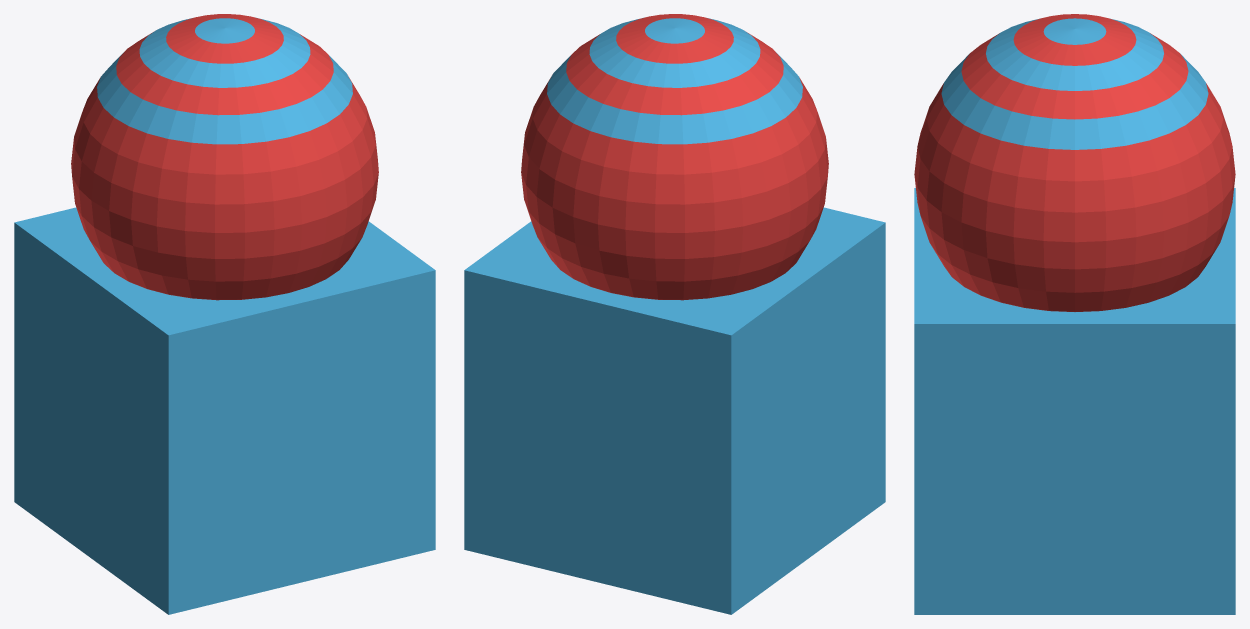
The model's file is redBlue.fbx.
3 renders of one model, left to right at view 1: azimuth 30°, elevation 25°; view 2: azimuth 150°, elevation 25°; view 3: azimuth 270°, elevation 25°, orthographic. The views are drawn at different scales.
Visible parts, largest first — view 1: Sphere; view 2: Sphere; view 3: Sphere.
Part boxes in pixels (<box>): Sphere: <box>14,14,435,614</box>; Sphere: <box>464,14,885,614</box>; Sphere: <box>914,14,1235,614</box>.
Bounding box in the file's own units: 200 × 356 × 200.
